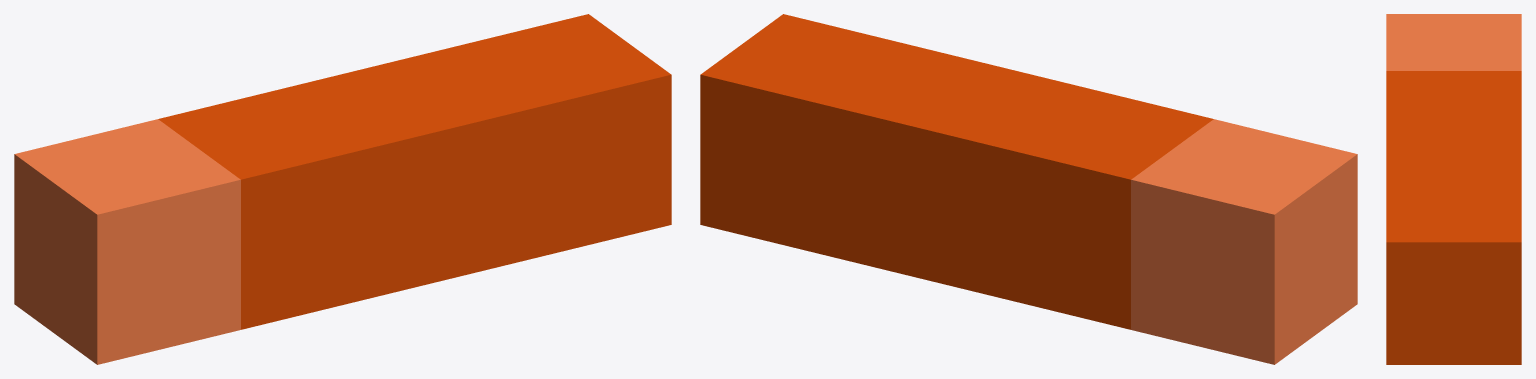
File: Animals-16.obj
3 views of the same model, side by side, from view 1: azimuth 30°, elevation 25°; view 2: azimuth 150°, elevation 25°; view 3: azimuth 270°, elevation 25° (orthographic). The views are drawn at different scales.
Size of the model in its own units: 0.4 by 0.1 by 0.1.
Materials: 1 (1 with a texture image).
